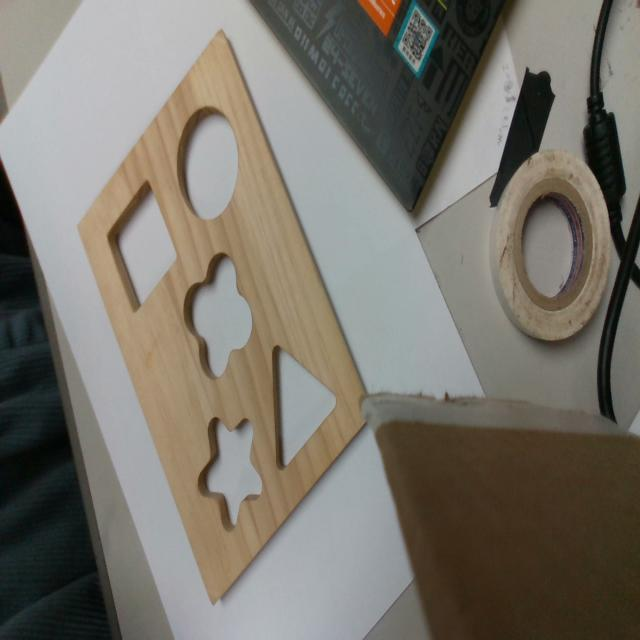circle: (176, 104, 239, 222)
flower: (181, 249, 256, 377)
square: (106, 178, 177, 313)
star: (199, 416, 262, 531)
triangle: (273, 342, 338, 474)
